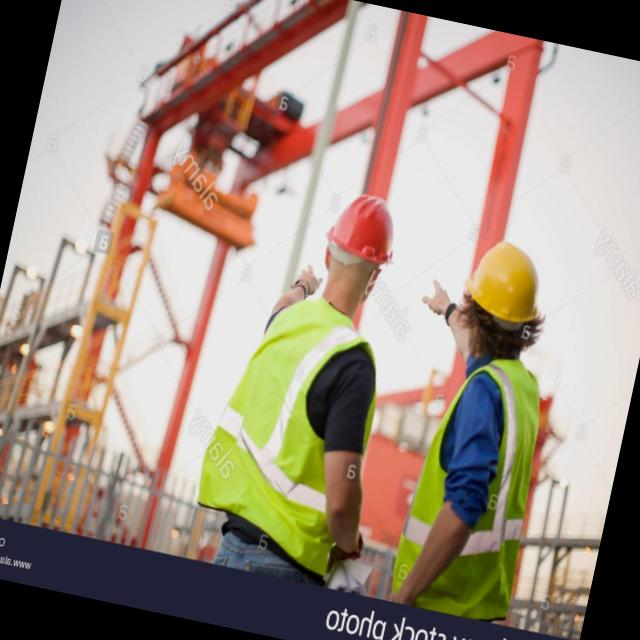helmet: (454, 230, 558, 335), (318, 184, 413, 272)
vest: (371, 337, 559, 630), (190, 280, 379, 562)
